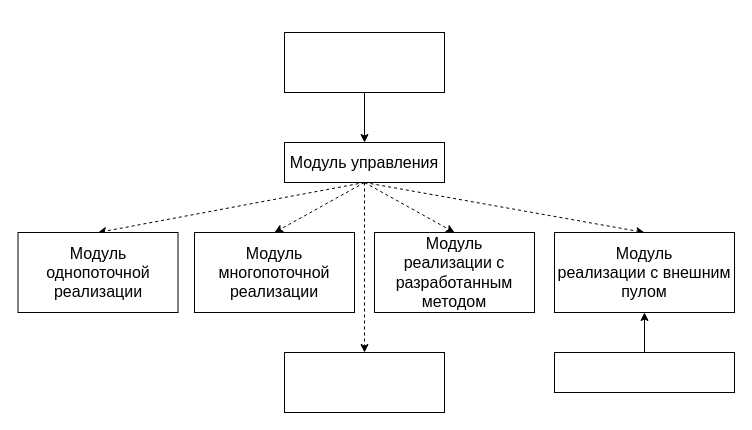
Image size: 752x430. Some labels were removed from this diagram. The box of each missing label's shape, as (x1, y1, x2, y2) in pixels:
Модуль взаимодействия с пользователем: (284, 32, 444, 92)
Модуль реализации сравнения времени выполнения: (284, 352, 444, 412)
Модуль создания пула: (554, 352, 734, 392)
